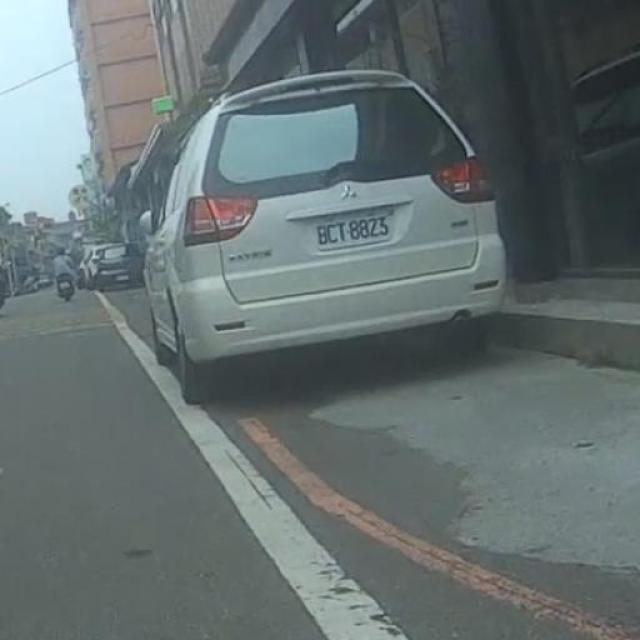illegalparking: (150, 32, 502, 433)
